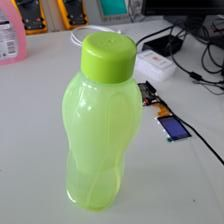bottle: (60, 29, 146, 213)
